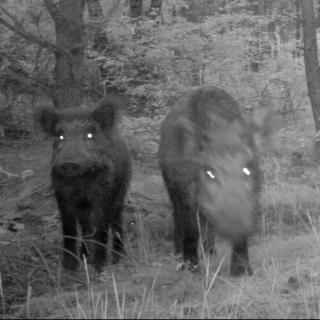Pig: (146, 74, 266, 272), (36, 96, 140, 281)
